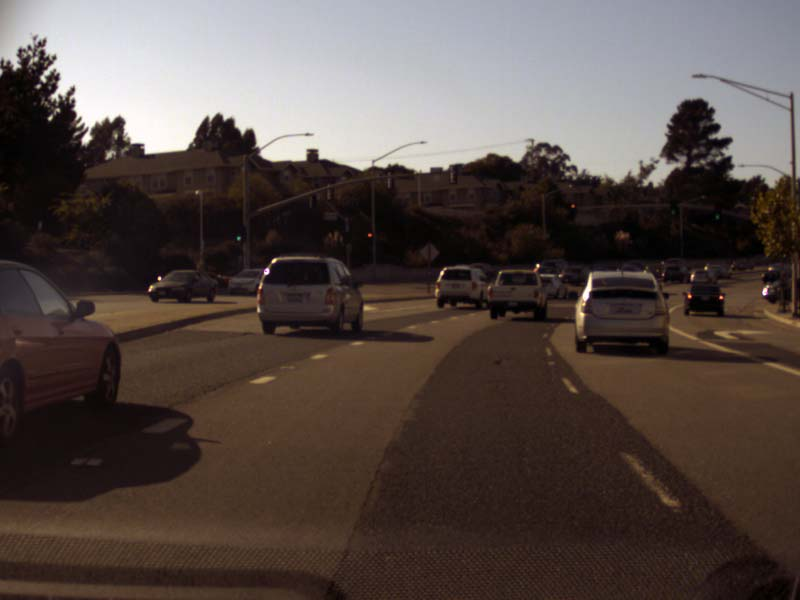Green: (234, 224, 243, 241), (670, 198, 676, 215), (714, 204, 720, 220)
Red: (568, 202, 576, 219), (366, 230, 372, 247)
